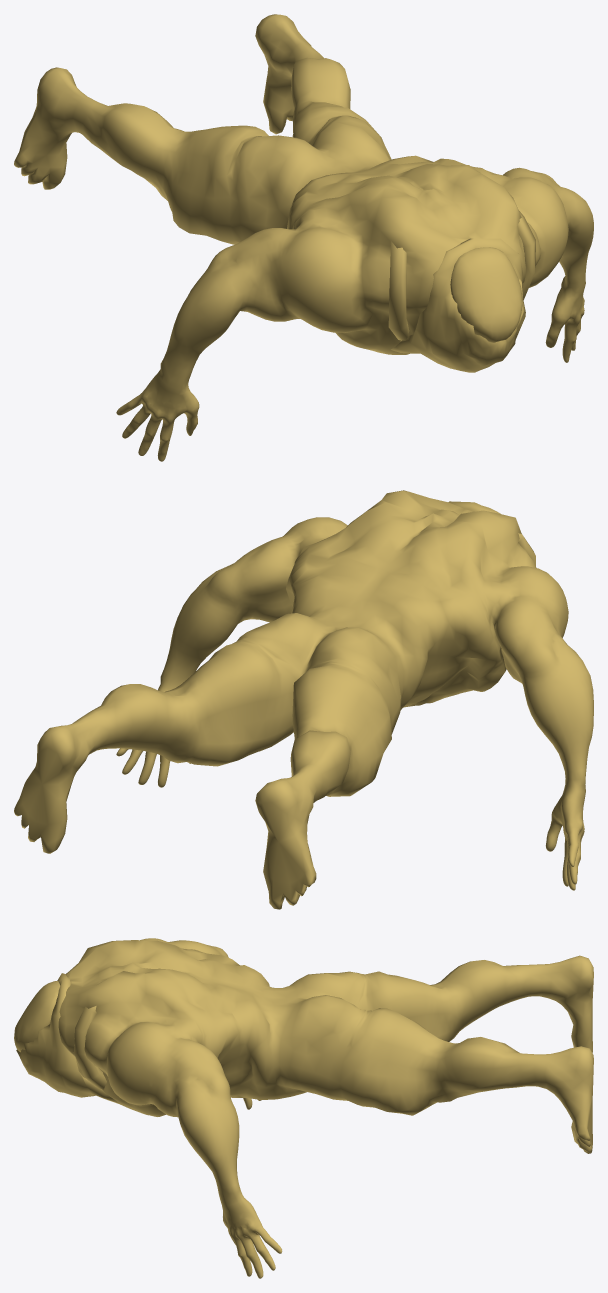
Rendered from mob.DAE.
The picture shows the model from 3 angles, top to bottom: view 1: azimuth 30°, elevation 25°; view 2: azimuth 150°, elevation 25°; view 3: azimuth 270°, elevation 25°; orthographic projection. The views are drawn at different scales.
Visible parts, largest first — view 1: polySurface10; view 2: polySurface10; view 3: polySurface10.
Boxes of the visible parts, x1=… form: polySurface10: x1=14, y1=14, x2=593, y2=461; polySurface10: x1=14, y1=490, x2=593, y2=909; polySurface10: x1=14, y1=938, x2=593, y2=1278.
Size of the model in its own units: 12.81 by 7.49 by 16.68.
